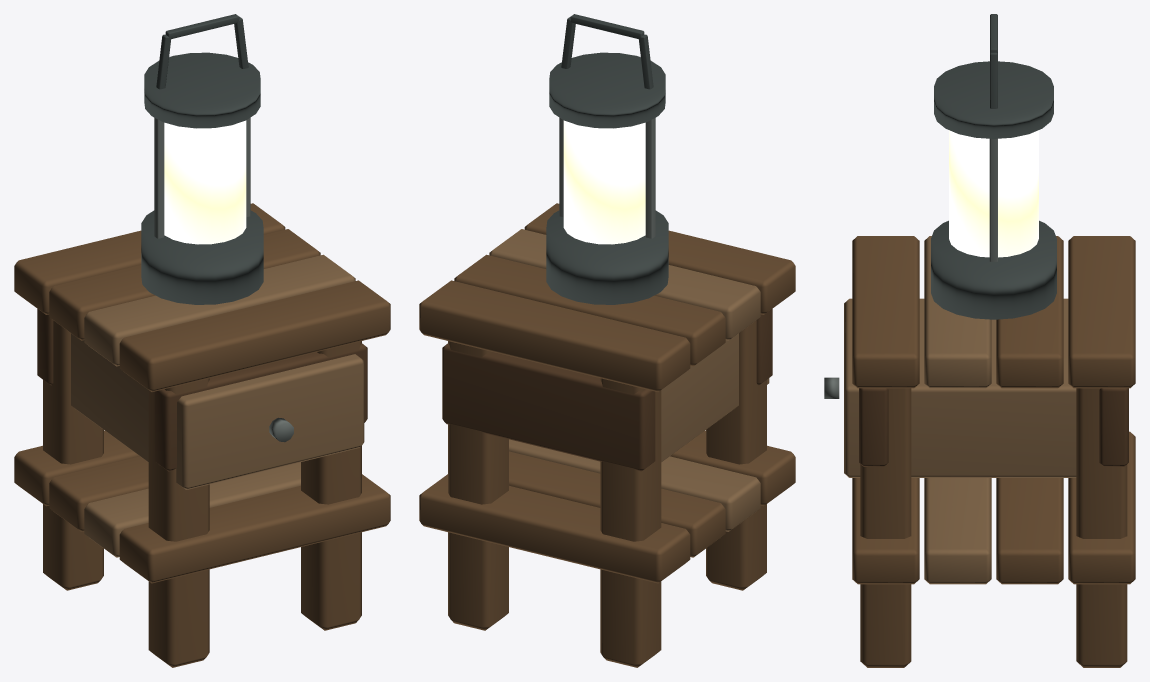
Rendered from BedsideTable02.fbx.
3 views of the same model, side by side, from view 1: azimuth 30°, elevation 25°; view 2: azimuth 150°, elevation 25°; view 3: azimuth 270°, elevation 25° (orthographic). The views are drawn at different scales.
Parts seen in each view (by area): view 1: BedsideTable02.001; view 2: BedsideTable02.001; view 3: BedsideTable02.001.
Part boxes in pixels (bbox=[...]): BedsideTable02.001: bbox=[14, 14, 390, 667]; BedsideTable02.001: bbox=[419, 14, 795, 667]; BedsideTable02.001: bbox=[824, 14, 1135, 667].
Size of the model in its own units: 48 by 109 by 51.85.
